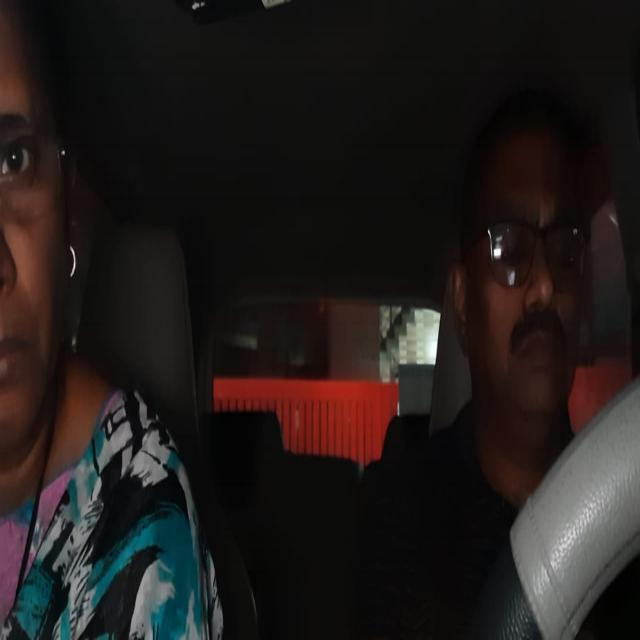drowsy: (447, 82, 597, 452)
person: (0, 10, 86, 470)
